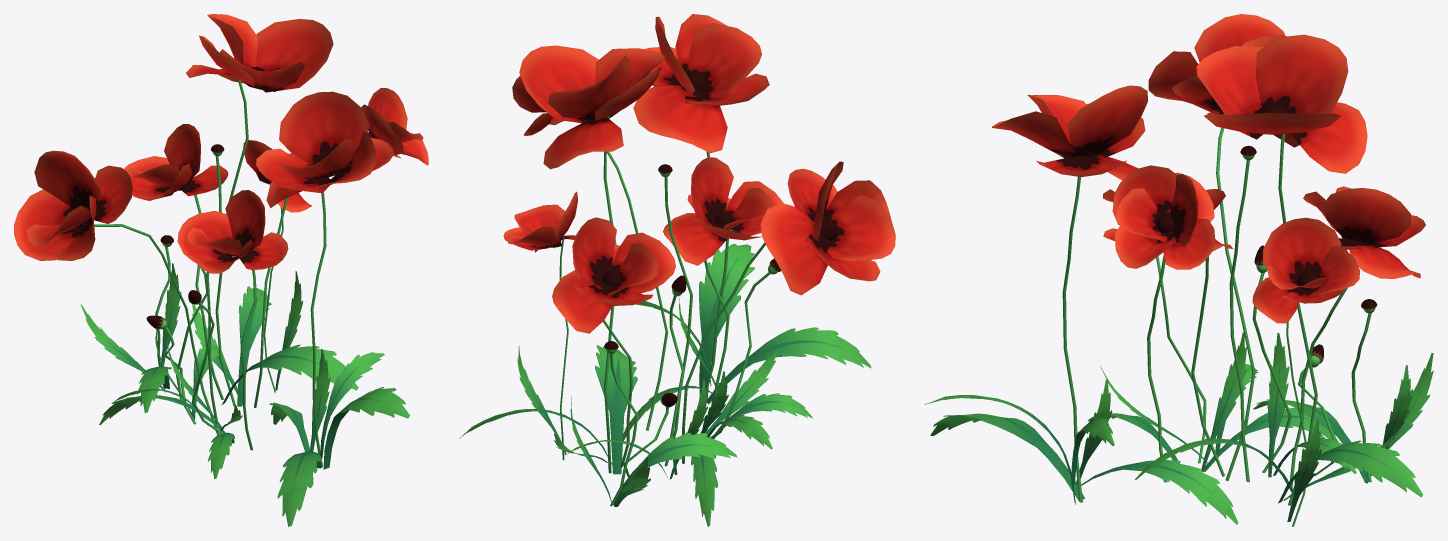
File: SM_Coquelicot4.fbx
The picture shows the model from 3 angles, left to right: view 1: azimuth 30°, elevation 25°; view 2: azimuth 150°, elevation 25°; view 3: azimuth 270°, elevation 25°; orthographic projection. The views are drawn at different scales.
Parts seen in each view (by area): view 1: Coquelicot_Feuille_01; view 2: Coquelicot_Feuille_01; view 3: Coquelicot_Feuille_01.
Part boxes in pixels (bbox=[...]): Coquelicot_Feuille_01: bbox=[14, 14, 428, 526]; Coquelicot_Feuille_01: bbox=[459, 14, 895, 526]; Coquelicot_Feuille_01: bbox=[925, 14, 1433, 526].
Bounding box in the file's own units: 93.47 × 94.32 × 96.43.
1 material, 1 textured.
